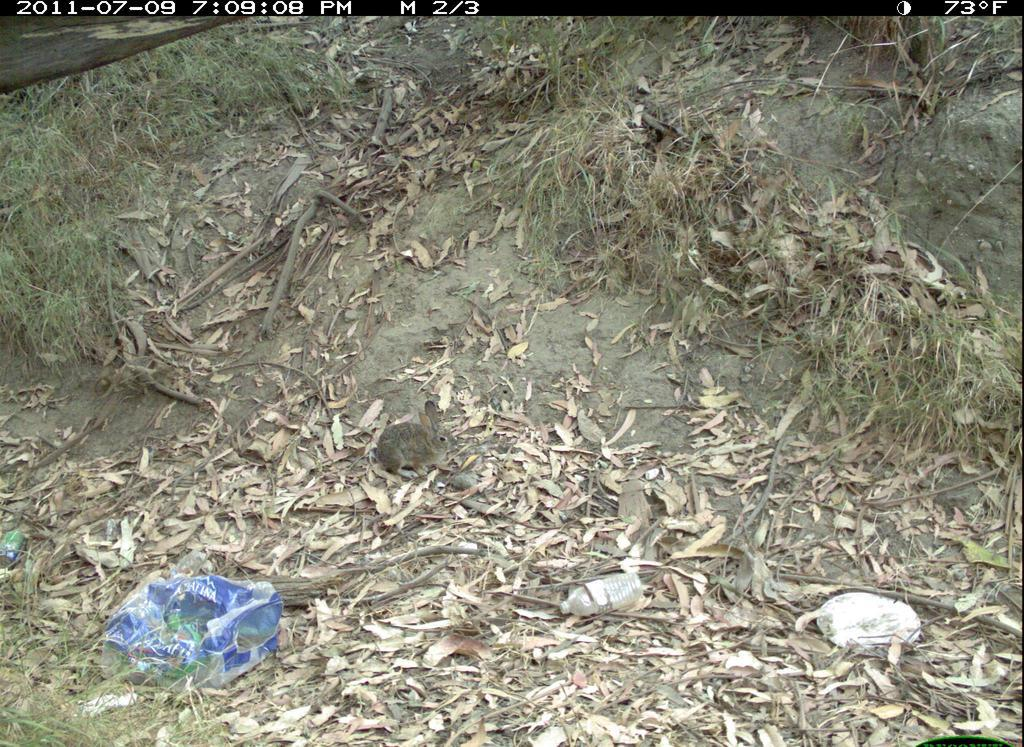rabbit: (367, 393, 466, 493)
